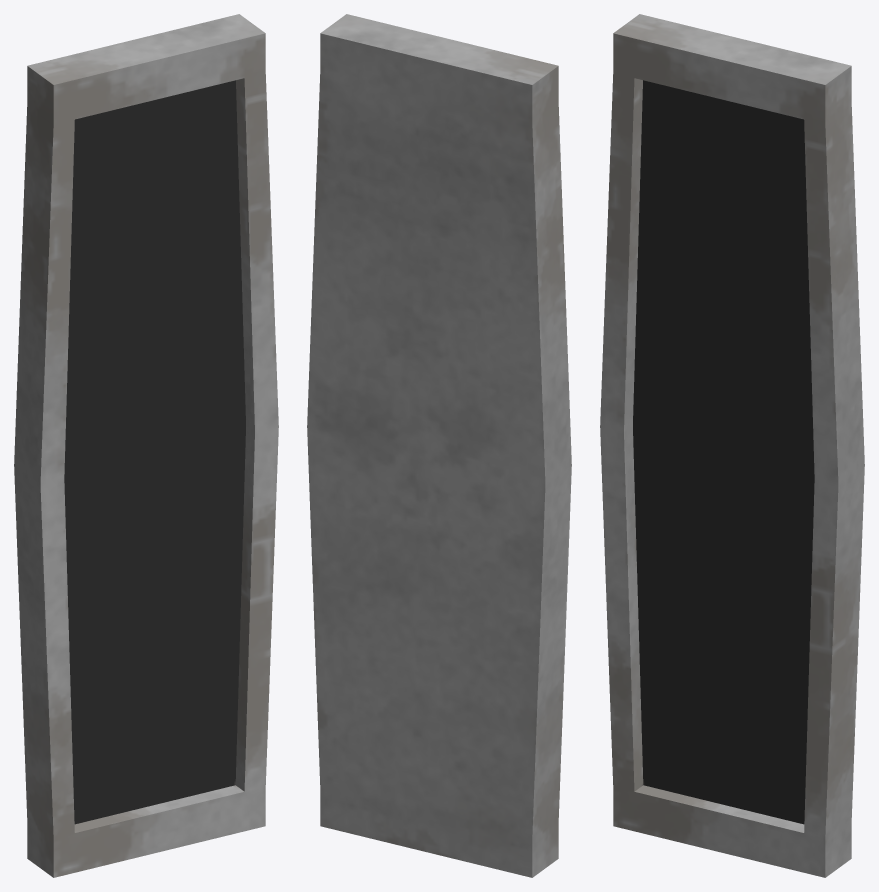
File: SM_window_C.fbx
3 renders of one model, left to right at view 1: azimuth 30°, elevation 25°; view 2: azimuth 150°, elevation 25°; view 3: azimuth 330°, elevation 25°, orthographic.
Parts seen in each view (by area): view 1: SM_Window_c_01; view 2: SM_Window_c_01; view 3: SM_Window_c_01.
Part boxes in pixels (left/top/right/bottom): SM_Window_c_01: left=14, top=14, right=278, bottom=877; SM_Window_c_01: left=307, top=14, right=571, bottom=877; SM_Window_c_01: left=600, top=14, right=864, bottom=877.
Size of the model in its own units: 0.7865 by 2.5 by 0.151.
